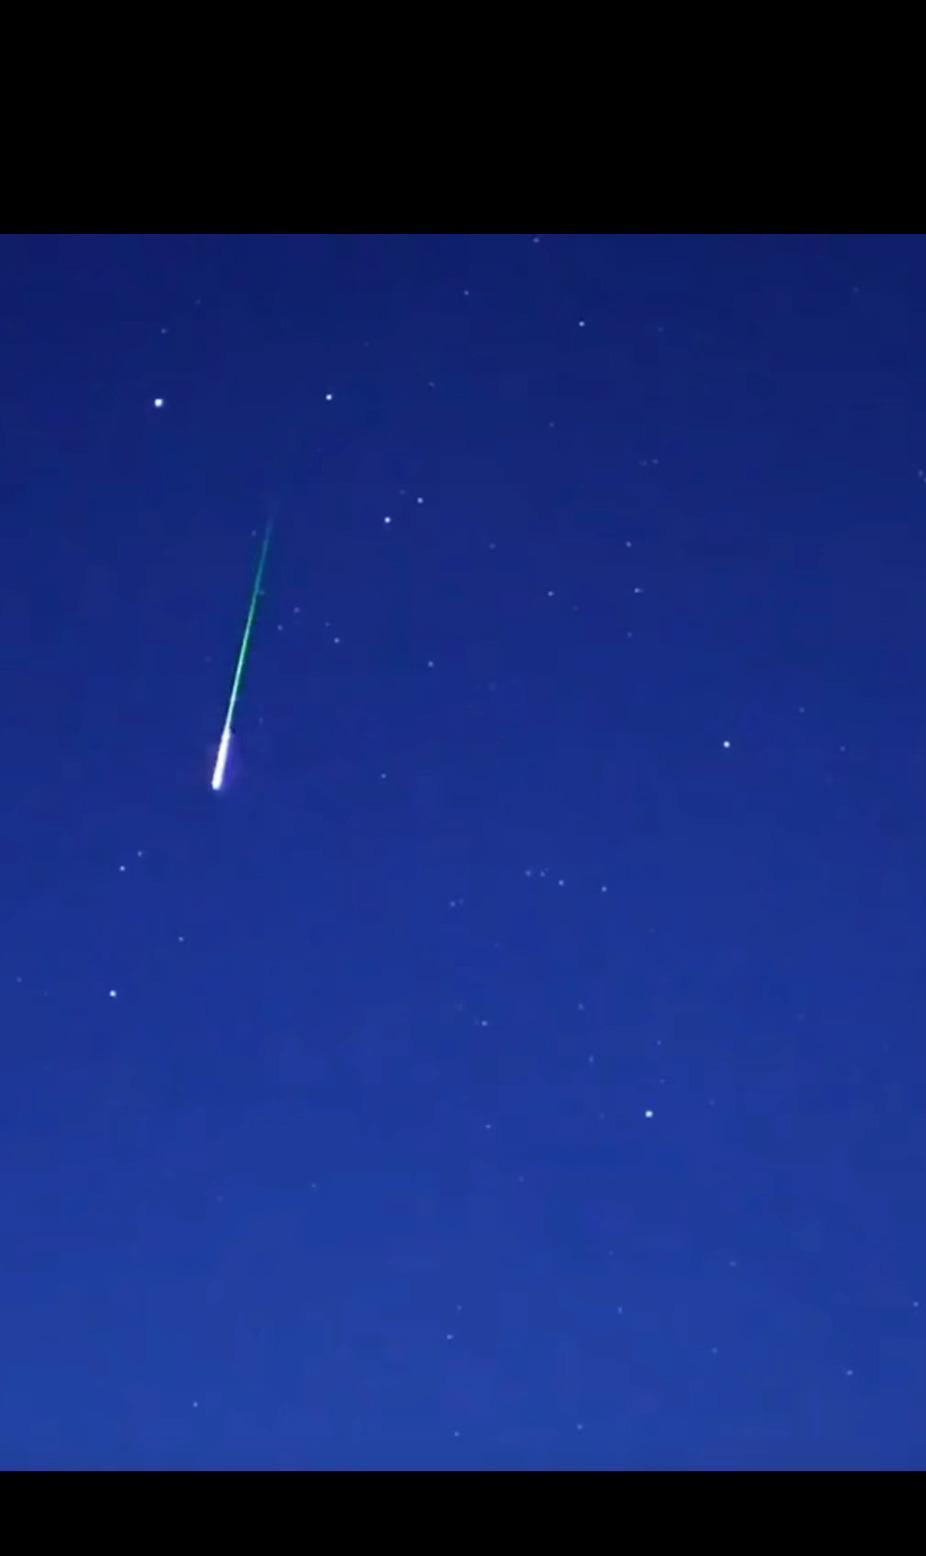meteorite: (181, 478, 303, 815)
